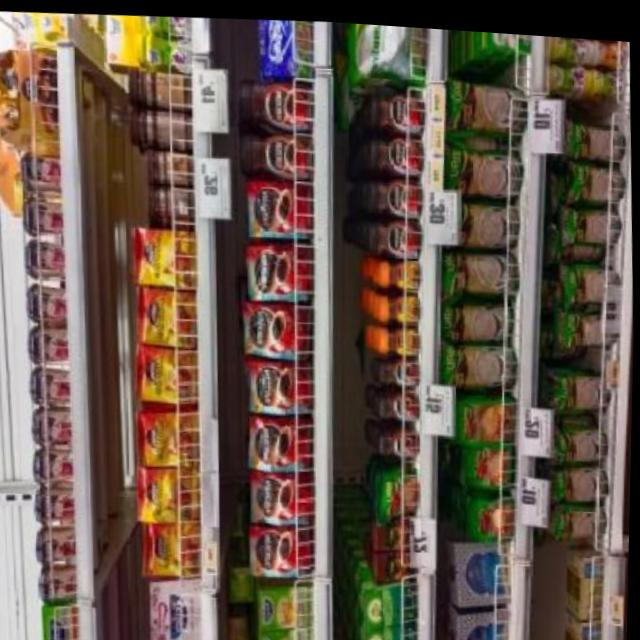Coffee: (132, 223, 199, 287), (243, 298, 310, 358), (136, 284, 197, 348), (248, 238, 313, 298), (248, 176, 313, 235), (238, 127, 313, 178), (248, 356, 315, 413), (138, 344, 201, 402), (249, 411, 312, 469), (138, 464, 201, 521), (138, 409, 201, 466), (251, 466, 314, 523), (240, 78, 311, 127), (143, 517, 204, 574), (251, 520, 314, 575), (372, 87, 425, 130), (369, 213, 422, 253), (371, 172, 421, 214), (372, 131, 423, 172), (382, 253, 421, 284), (380, 424, 420, 454), (379, 351, 419, 381), (381, 287, 421, 317), (381, 320, 420, 350), (380, 386, 419, 415)
